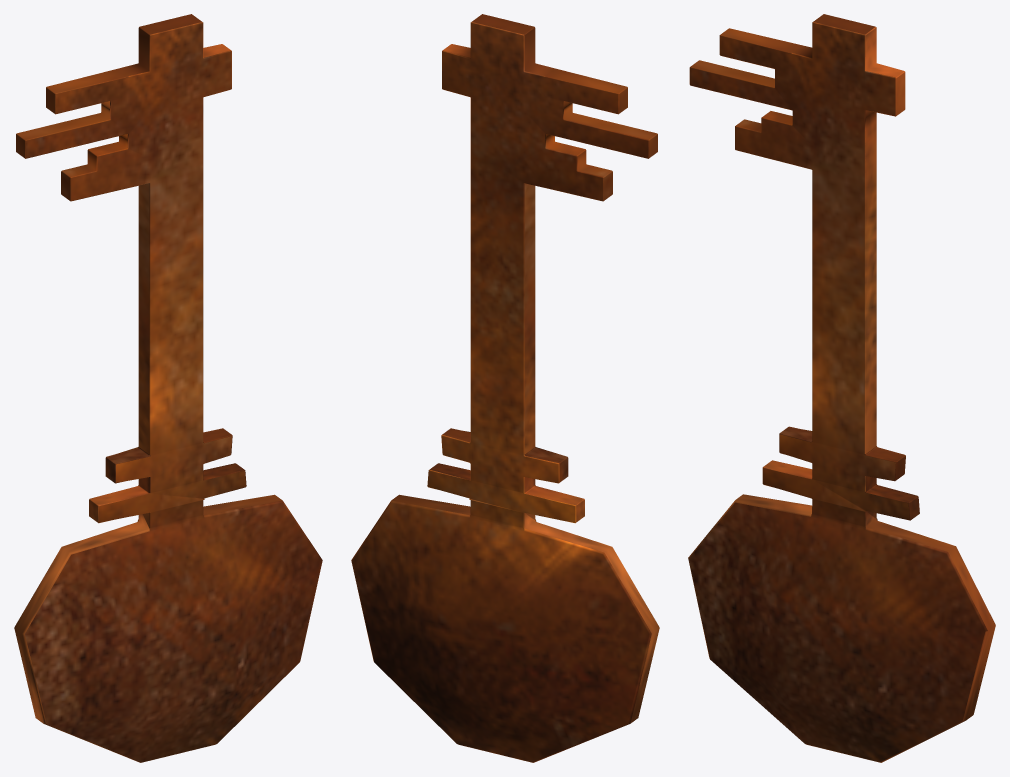
Rendered from Nyckeln.fbx.
The picture shows the model from 3 angles, left to right: view 1: azimuth 30°, elevation 25°; view 2: azimuth 150°, elevation 25°; view 3: azimuth 330°, elevation 25°; orthographic projection.
Parts seen in each view (by area): view 1: polySurface1; view 2: polySurface1; view 3: polySurface1.
Part boxes in pixels (x1,y1,x2,y2): polySurface1: [14, 14, 322, 762]; polySurface1: [351, 14, 659, 762]; polySurface1: [688, 14, 995, 762].
Bounding box in the file's own units: 11.91 × 27.55 × 2.38.
